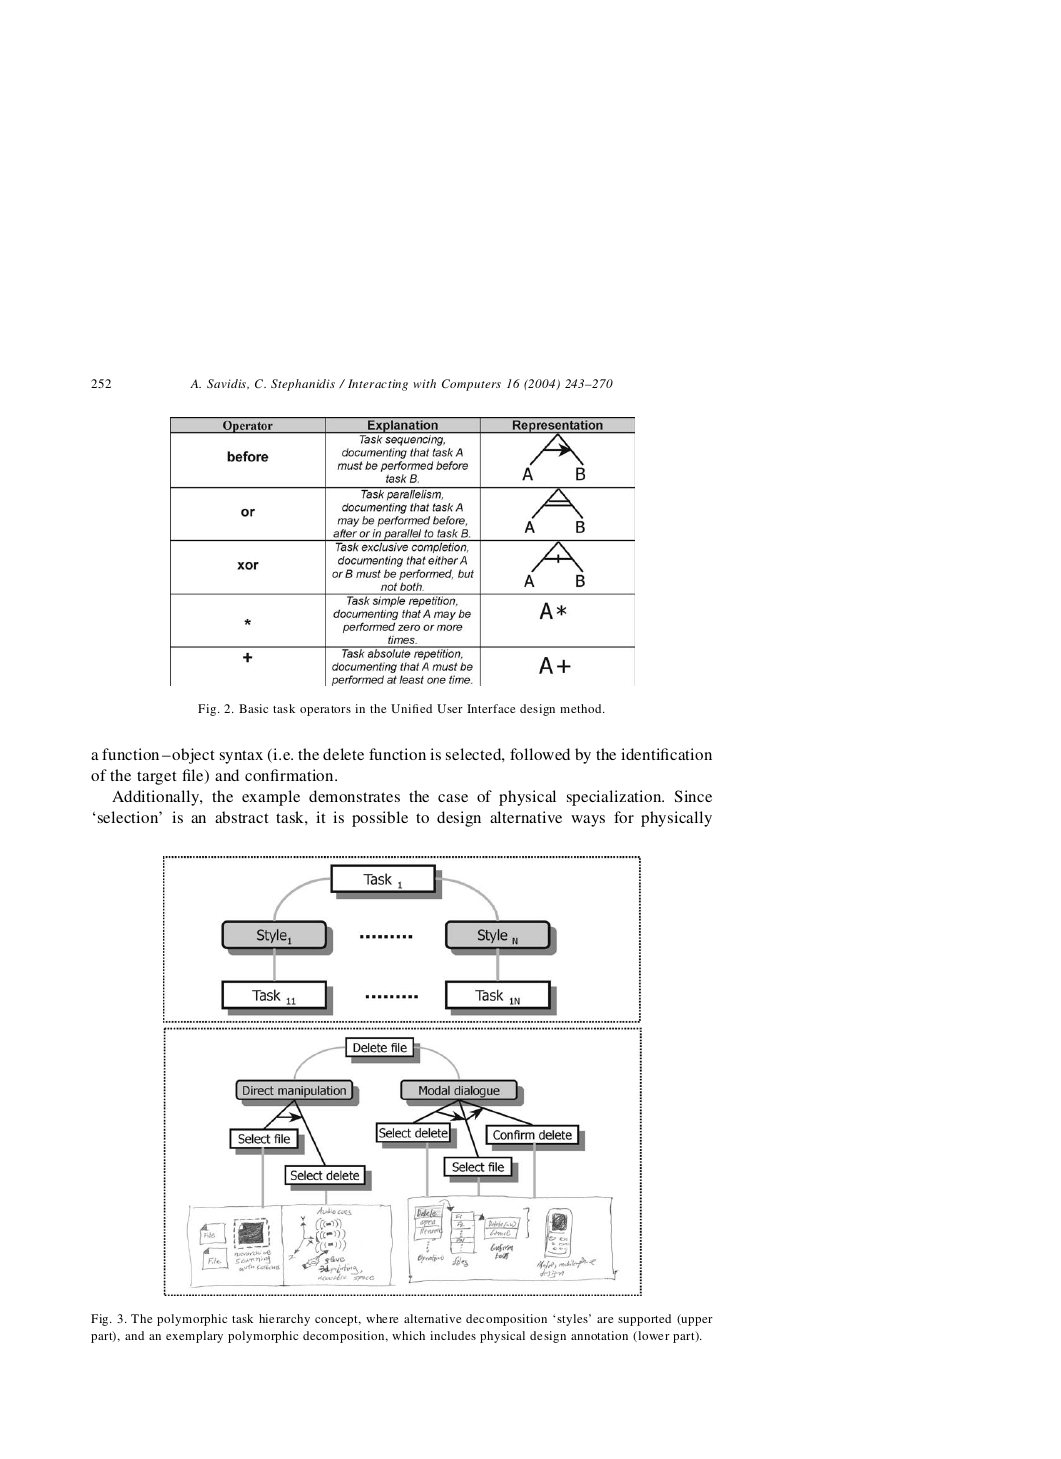Table: (170, 415, 634, 686)
figure: (163, 1025, 641, 1296), (163, 855, 640, 1024)
